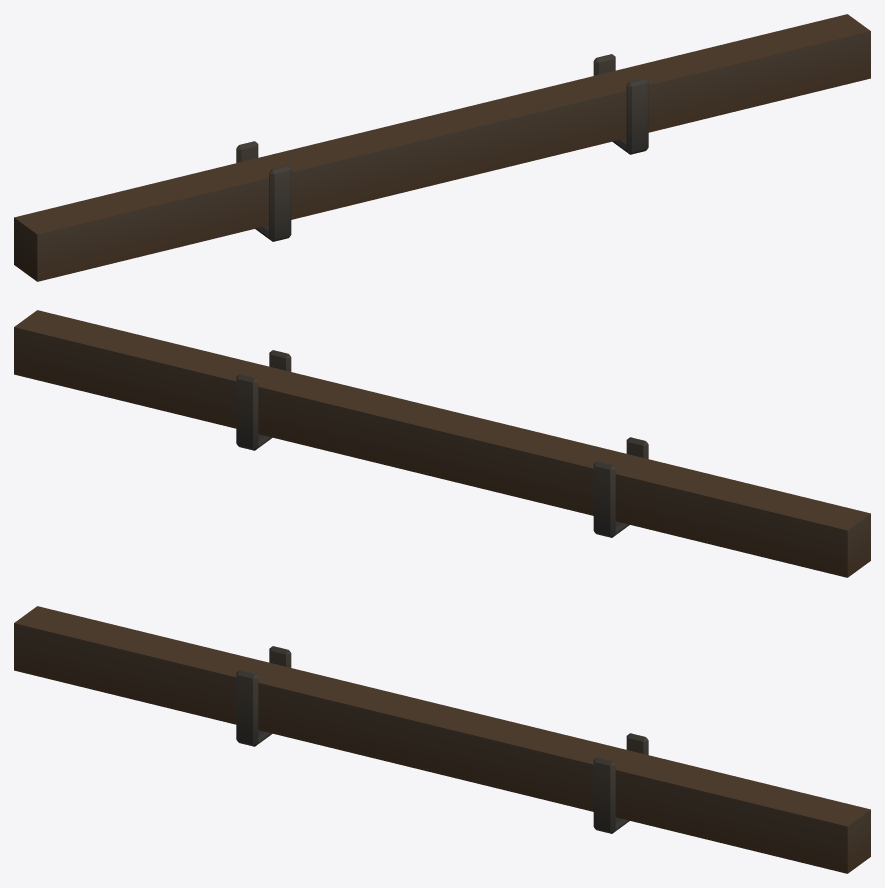
File: gate_bar.glb
3 renders of one model, top to bottom at view 1: azimuth 30°, elevation 25°; view 2: azimuth 150°, elevation 25°; view 3: azimuth 330°, elevation 25°, orthographic.
Visible parts, largest first — view 1: log-001, dark-iron-001; view 2: log-001, dark-iron-001; view 3: log-001, dark-iron-001.
Part boxes in pixels (bbox=[...]): log-001: bbox=[14, 14, 870, 281]; dark-iron-001: bbox=[236, 54, 648, 241]; log-001: bbox=[14, 310, 870, 577]; dark-iron-001: bbox=[236, 350, 648, 537]; log-001: bbox=[14, 606, 870, 873]; dark-iron-001: bbox=[236, 646, 648, 833].
Bounding box in the file's own units: 3.5 × 0.29 × 0.27.
